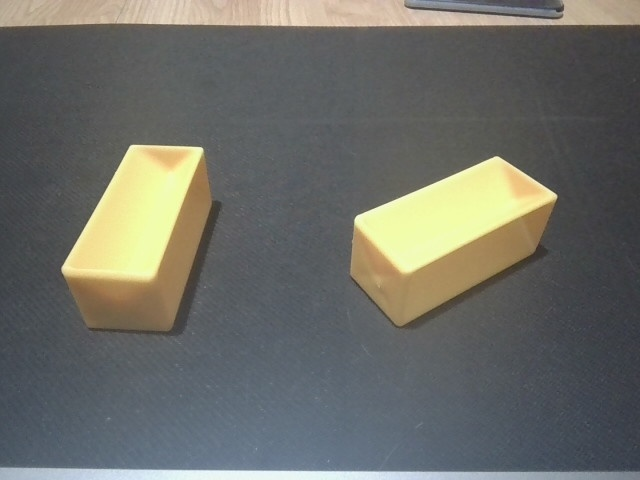YellowSample: (345, 153, 561, 331), (58, 140, 217, 336)
